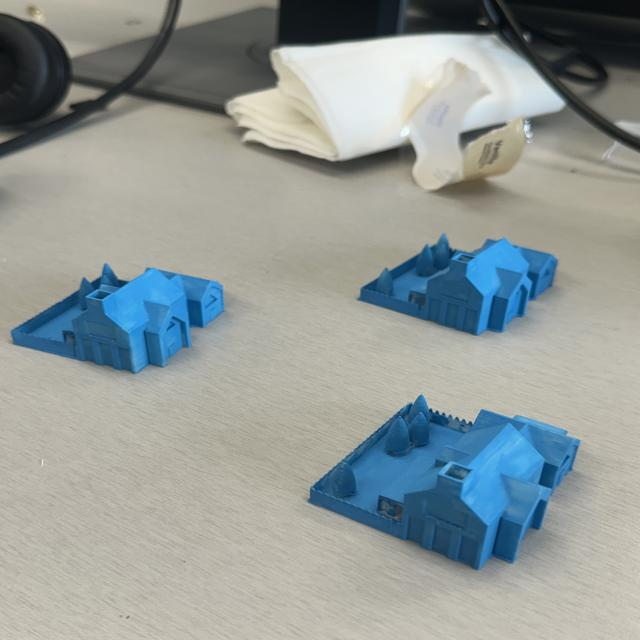house: (312, 392, 580, 570), (11, 259, 228, 373), (357, 231, 560, 336)
